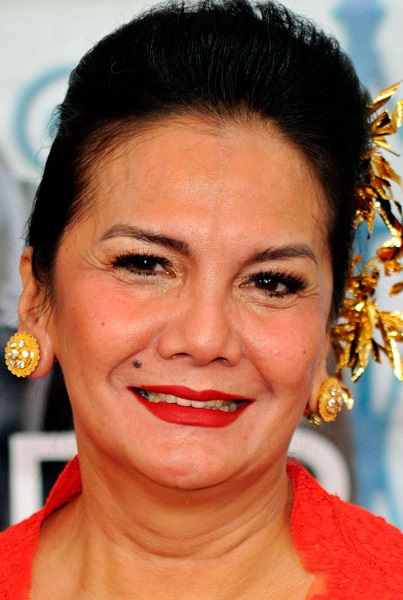jerawat: (273, 348, 282, 356)
